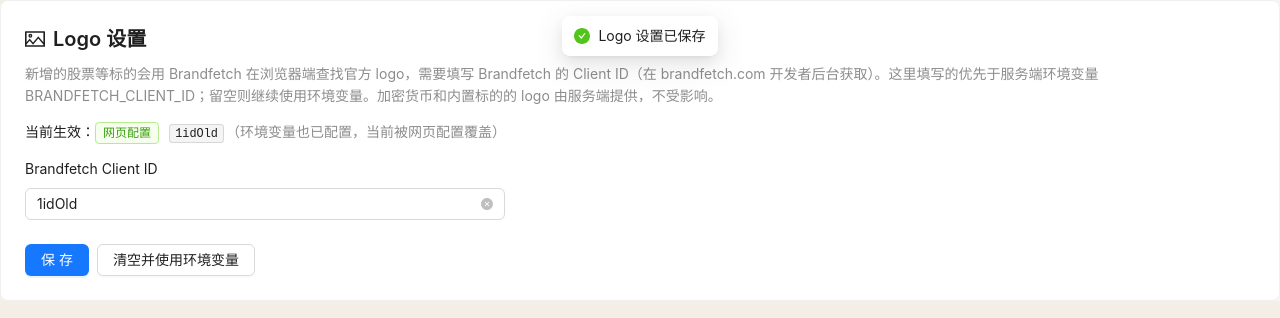
Scenario: LogoSettings › clearing falls back to the environment variable
This screenshot has width=1280, height=318.
Check: the field showing "1idOld" is shown, box 37,193 -> 477,215
Step 1. Click the button "清空并使用环境变量" → (176, 260), box 97,244 -> 255,276
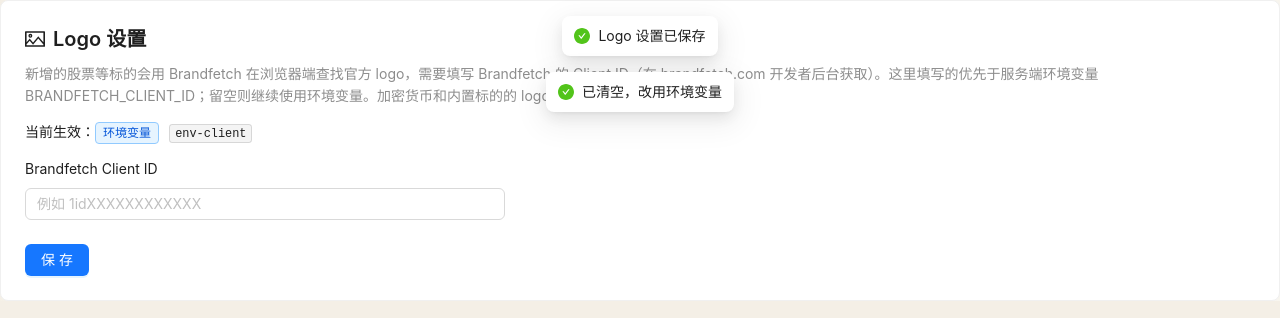
Check: the text "环境变量" is shown, box 95,122 -> 159,144
Check: the text "env-client" is shown, box 169,124 -> 252,143
